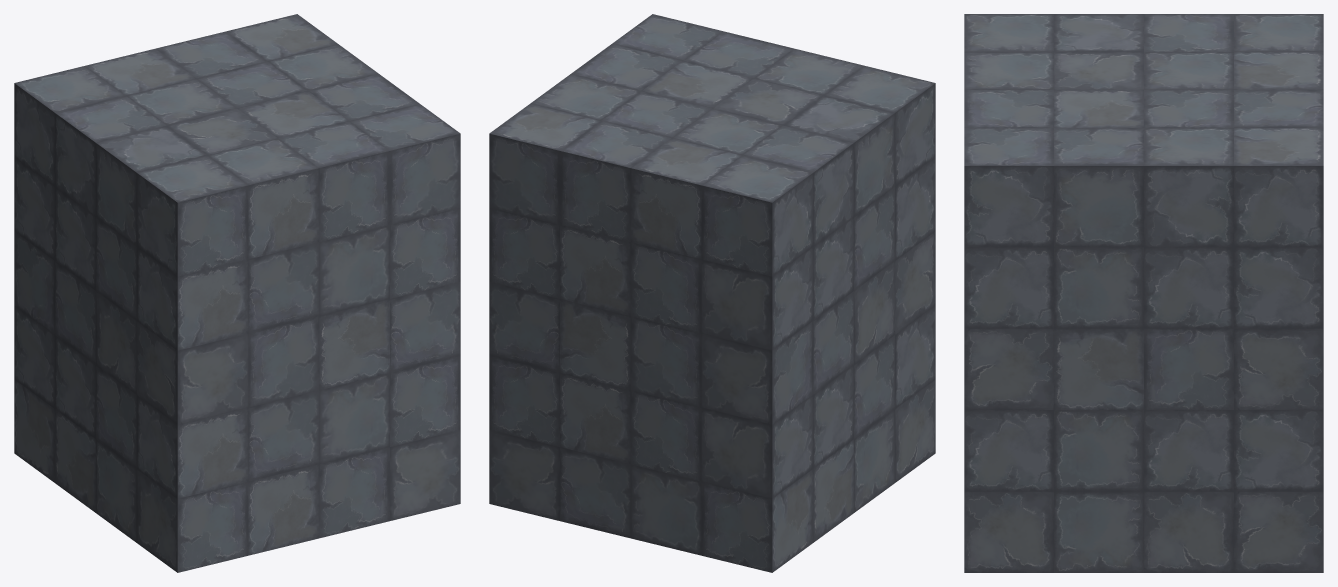
The model's file is Castle Block 4x4x5.fbx.
The picture shows the model from 3 angles, left to right: view 1: azimuth 30°, elevation 25°; view 2: azimuth 150°, elevation 25°; view 3: azimuth 270°, elevation 25°; orthographic projection. The views are drawn at different scales.
Visible parts, largest first — view 1: Castle Block 4x4x5; view 2: Castle Block 4x4x5; view 3: Castle Block 4x4x5.
Boxes of the visible parts, x1,y1,x2,y2 form: Castle Block 4x4x5: (14,14,460,572); Castle Block 4x4x5: (489,14,935,572); Castle Block 4x4x5: (964,14,1323,572).
Bounding box in the file's own units: 3 × 3.75 × 3.
